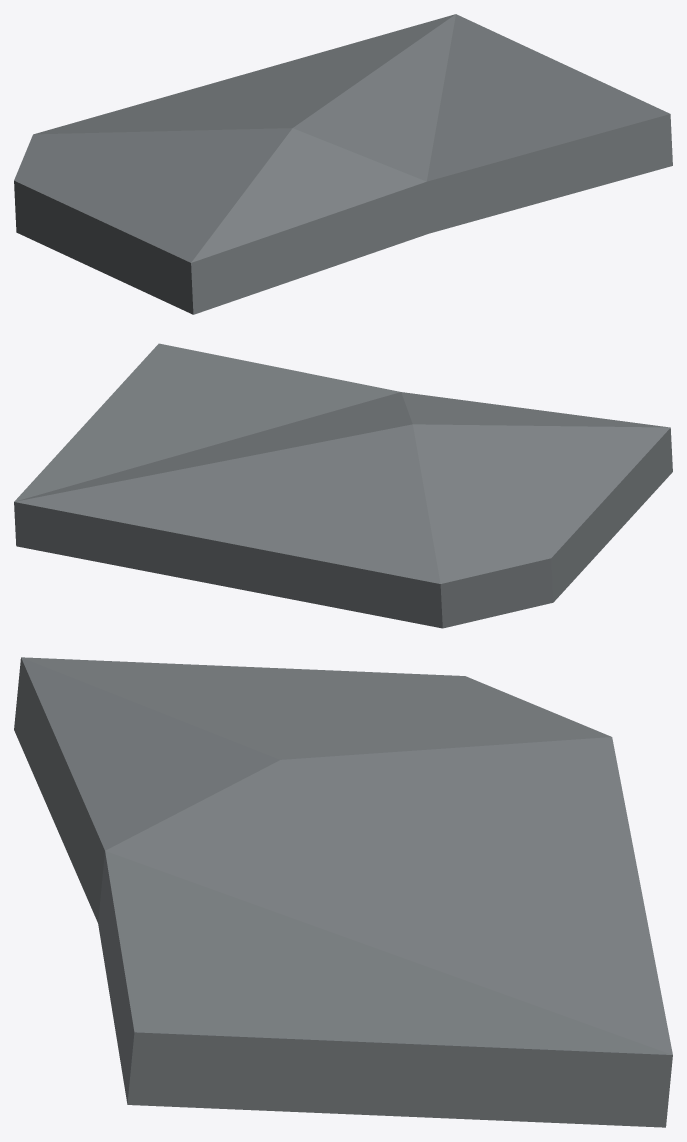
The model's file is Rock_B.FBX.
The picture shows the model from 3 angles, top to bottom: view 1: azimuth 30°, elevation 25°; view 2: azimuth 150°, elevation 25°; view 3: azimuth 270°, elevation 25°; orthographic projection. The views are drawn at different scales.
Visible parts, largest first — view 1: rock_2; view 2: rock_2; view 3: rock_2.
Boxes of the visible parts, <box> form: rock_2: <box>14,14,672,314</box>; rock_2: <box>14,343,672,628</box>; rock_2: <box>14,657,672,1127</box>.
Bounding box in the file's own units: 75.15 × 14.43 × 54.71.
1 material, 1 textured.
